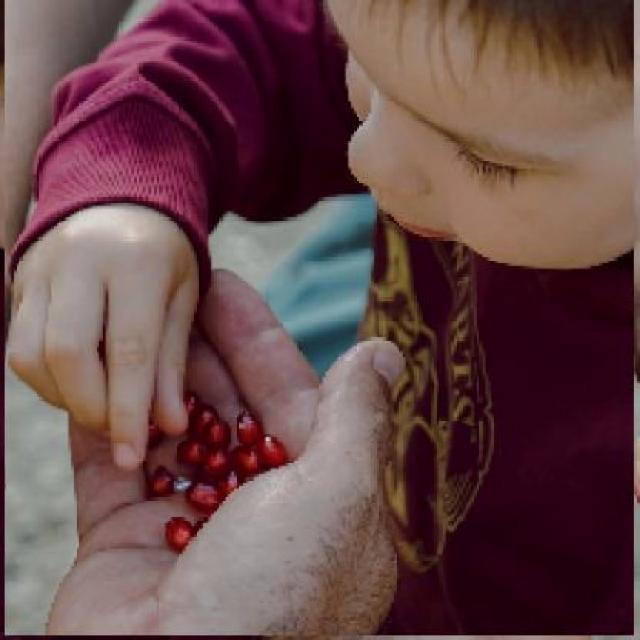child: (3, 0, 634, 637)
